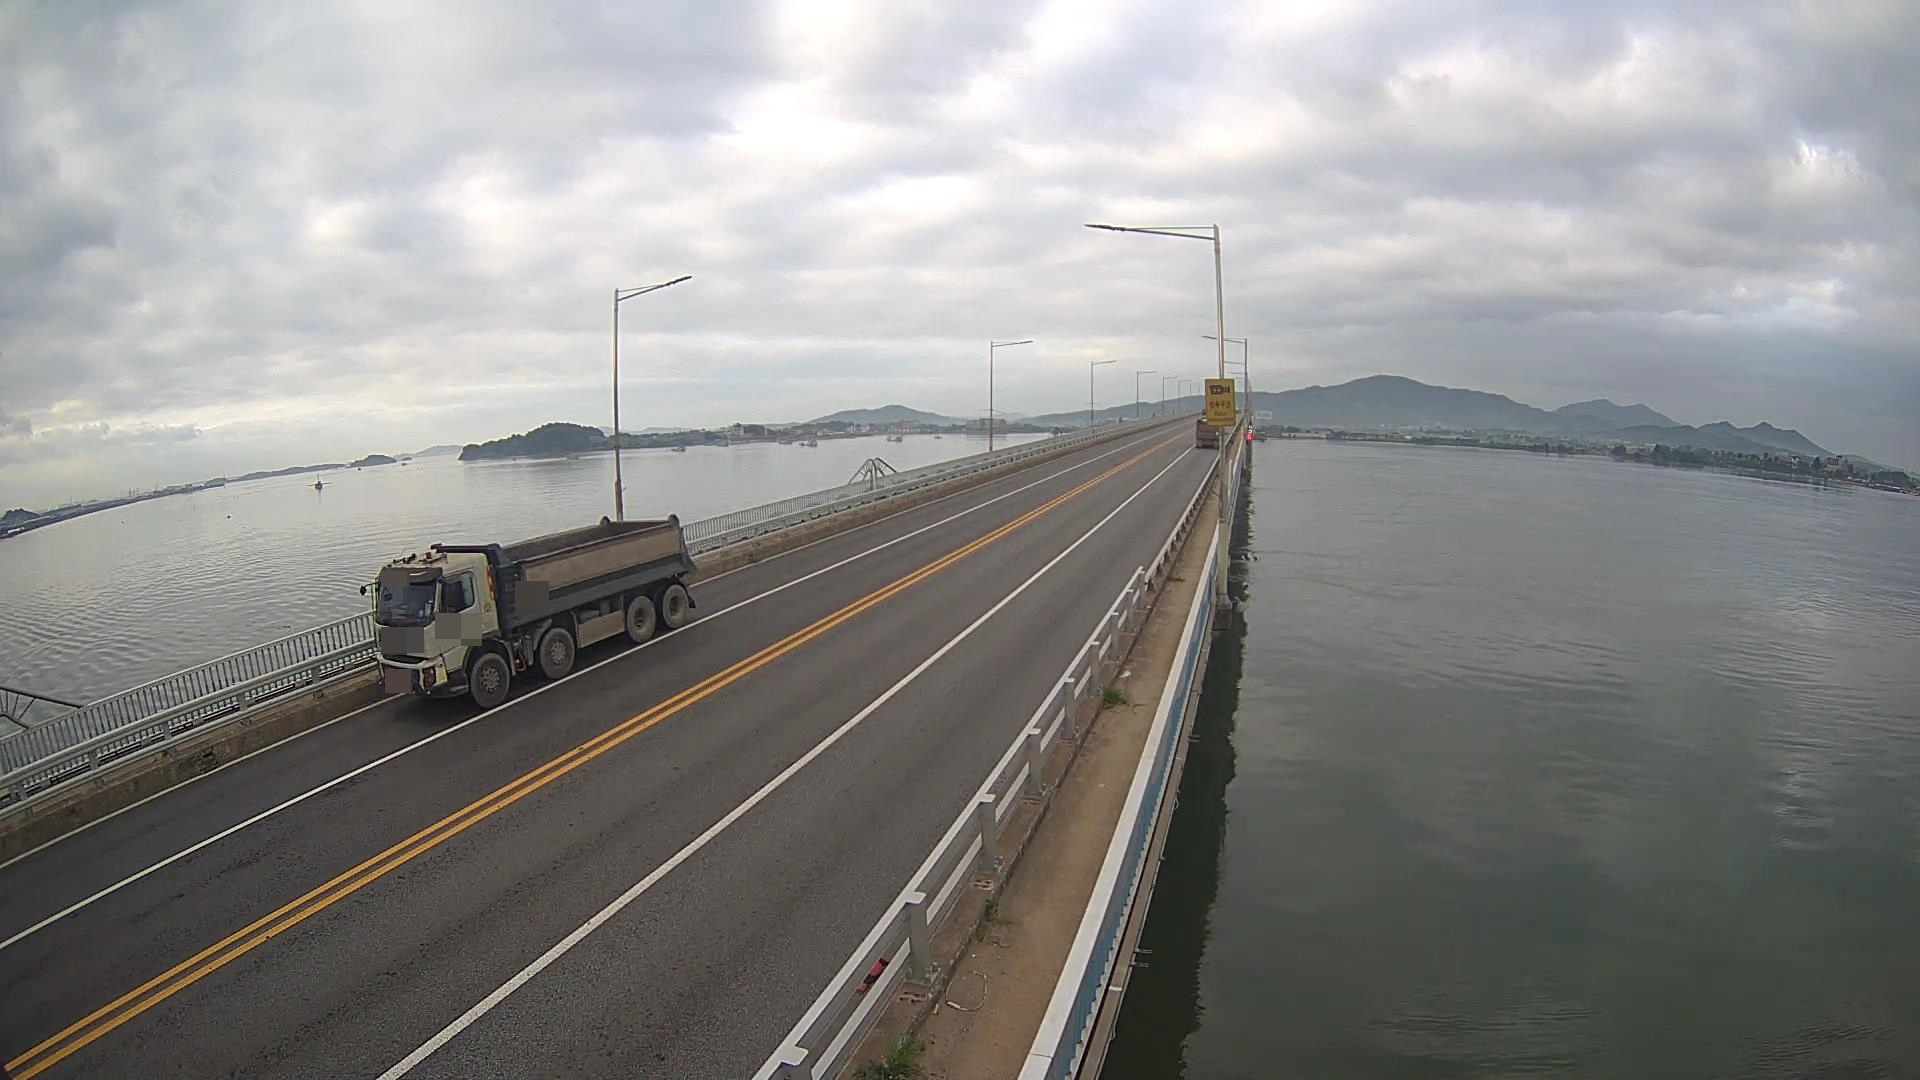정상차량: (360, 514, 697, 706)
